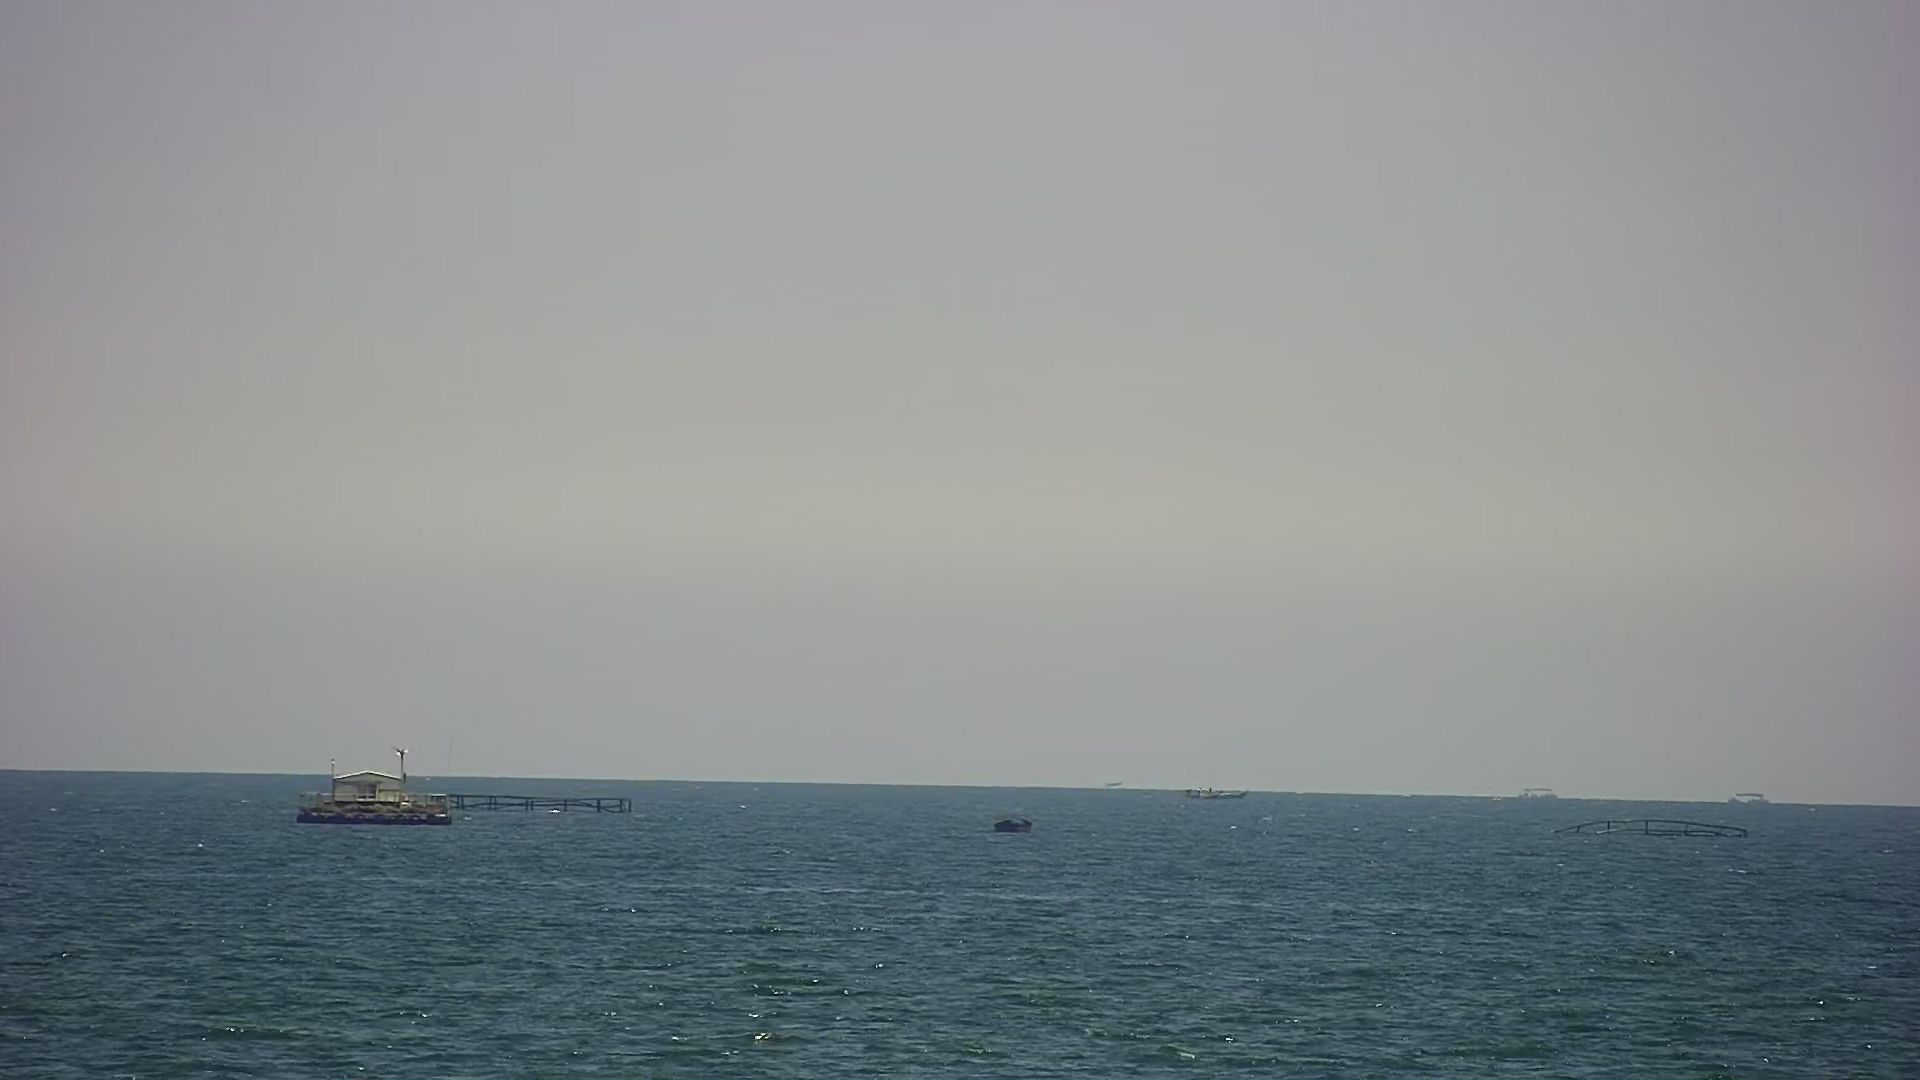boat: (1176, 781, 1269, 804)
platform: (285, 756, 454, 831), (1534, 806, 1774, 847), (433, 783, 659, 818), (982, 808, 1051, 847), (1505, 775, 1577, 806), (1729, 781, 1778, 812), (1096, 775, 1133, 790)
